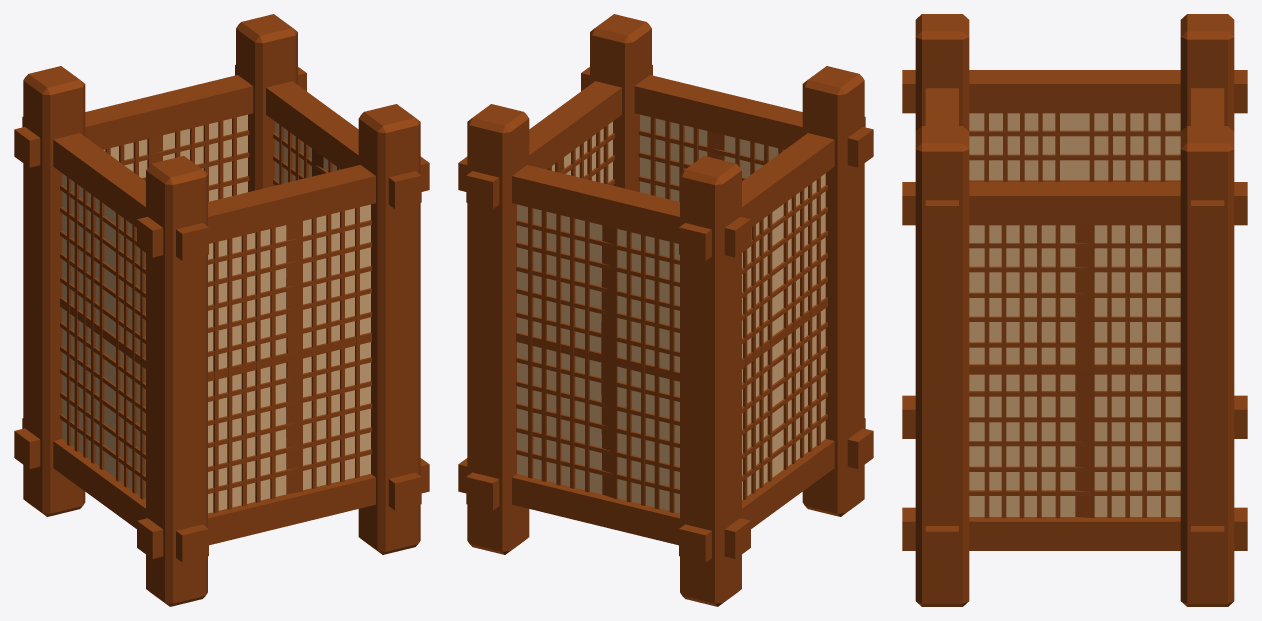
File: Lamp.fbx
3 views of the same model, side by side, from view 1: azimuth 30°, elevation 25°; view 2: azimuth 150°, elevation 25°; view 3: azimuth 270°, elevation 25° (orthographic). The views are drawn at different scales.
Parts seen in each view (by area): view 1: Lamp; view 2: Lamp; view 3: Lamp.
Part boxes in pixels (bbox=[...]): Lamp: bbox=[14, 14, 429, 606]; Lamp: bbox=[458, 14, 873, 606]; Lamp: bbox=[902, 14, 1247, 606].
Bounding box in the file's own units: 18.24 × 27 × 18.24.
